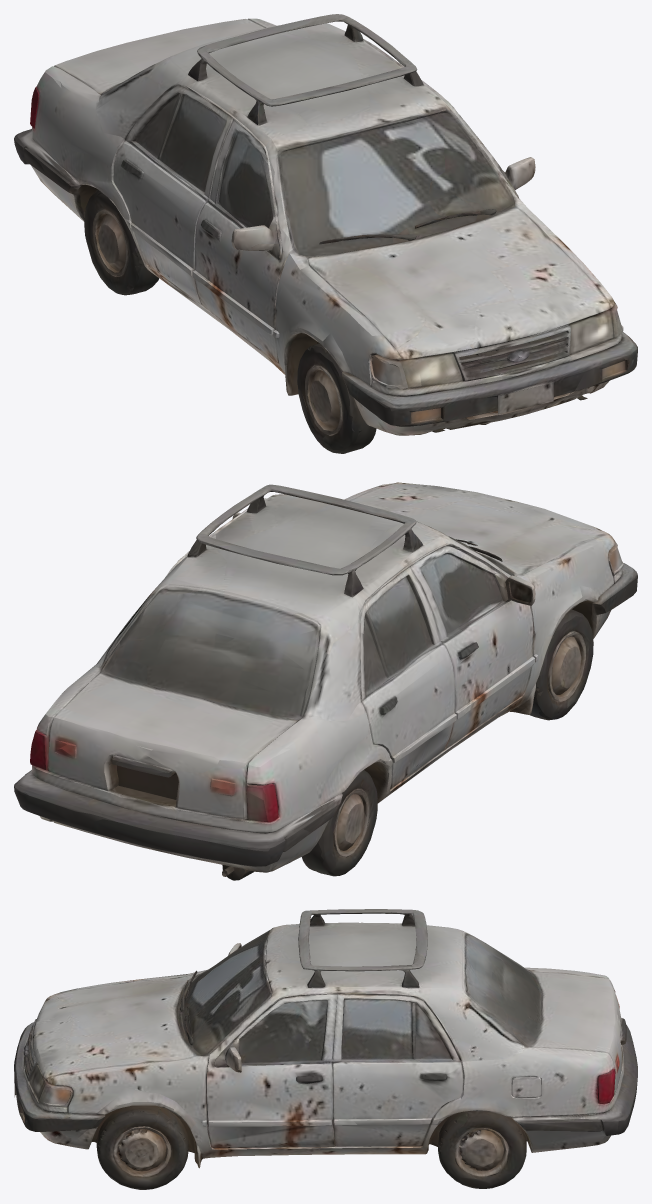
Rendered from civ_sedan.glb.
3 views of the same model, one above another, from view 1: azimuth 30°, elevation 25°; view 2: azimuth 150°, elevation 25°; view 3: azimuth 270°, elevation 25° (orthographic). The views are drawn at different scales.
Visible parts, largest first — view 1: civ_sedan; view 2: civ_sedan; view 3: civ_sedan.
Part boxes in pixels (left/top/right/bottom): civ_sedan: left=14, top=14, right=637, bottom=453; civ_sedan: left=14, top=482, right=637, bottom=880; civ_sedan: left=14, top=909, right=637, bottom=1189.
Bounding box in the file's own units: 1.94 × 1.61 × 4.4.
1 material, 1 textured.
